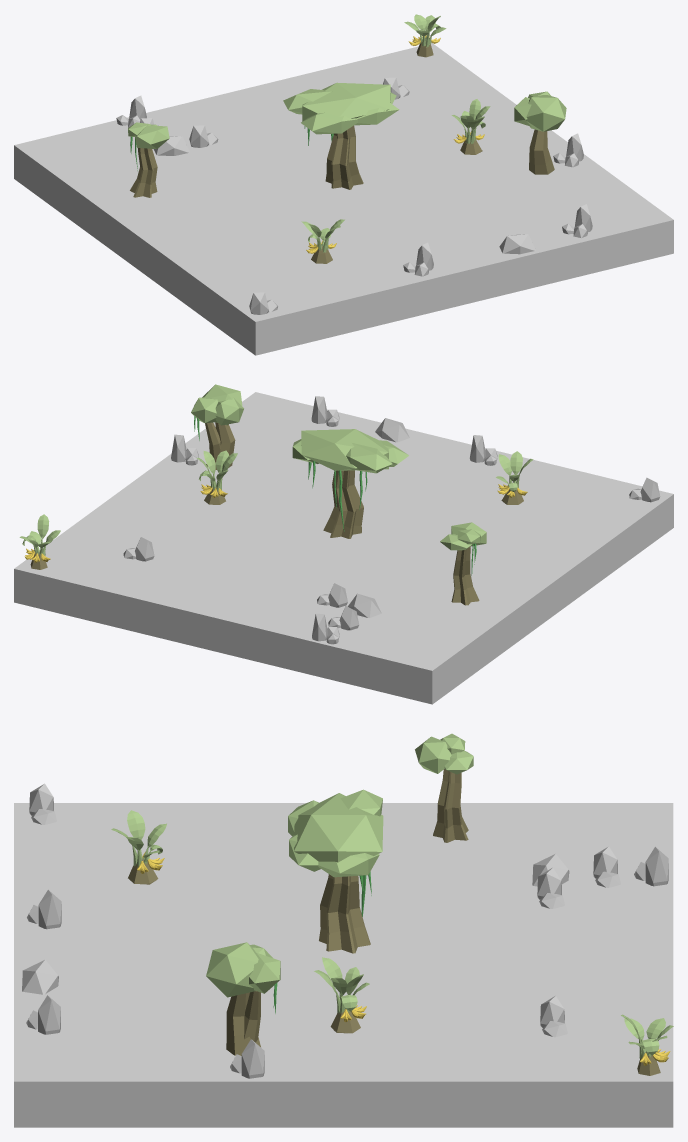
Rendered from Lowpoly jungle_EXPORT_V001.fbx.
The picture shows the model from 3 angles, top to bottom: view 1: azimuth 30°, elevation 25°; view 2: azimuth 150°, elevation 25°; view 3: azimuth 270°, elevation 25°; orthographic projection. The views are drawn at different scales.
Visible parts, largest first — view 1: Platonic_2_5, Cube_0, Cube_3, Cube_4, Cube_11, Cube_12, Cube_6, Cube_9, Cube_1, Cube_2, Cube_7, TRONC (+122 smaller); view 2: Cube_156, Platonic_2_5, TRONC, Cube_157, Cube_161, Cube_164, Cube_165, Cube_166, Cube_162, Cube_167, Cube_163, Cube_158 (+129 smaller); view 3: Platonic_2_5, Cube_25, Cube_38, Cube_77, Cube_116, Cube_129, Cube_12, Cube_51, Cube_90, Cube_103, Cube_142, Cube_155 (+155 smaller).
Boxes of the visible parts, left/top/right/bottom form: Platonic_2_5: left=302, top=82, right=390, bottom=121; Cube_0: left=237, top=305, right=287, bottom=355; Cube_3: left=334, top=277, right=384, bottom=331; Cube_4: left=366, top=269, right=416, bottom=324; Cube_11: left=592, top=214, right=641, bottom=268; Cube_12: left=623, top=206, right=673, bottom=261; Cube_6: left=433, top=253, right=480, bottom=308; Cube_9: left=530, top=230, right=577, bottom=284; Cube_1: left=272, top=292, right=319, bottom=347; Cube_2: left=302, top=285, right=351, bottom=339; Cube_7: left=462, top=245, right=512, bottom=300; TRONC: left=325, top=125, right=363, bottom=189; Cube_156: left=400, top=649, right=450, bottom=704; Platonic_2_5: left=301, top=429, right=388, bottom=470; TRONC: left=323, top=470, right=363, bottom=538; Cube_157: left=368, top=641, right=418, bottom=696; Cube_161: left=239, top=610, right=289, bottom=664; Cube_164: left=142, top=586, right=192, bottom=641; Cube_165: left=110, top=579, right=160, bottom=633; Cube_166: left=78, top=571, right=128, bottom=625; Cube_162: left=207, top=602, right=257, bottom=657; Cube_167: left=46, top=563, right=96, bottom=617; Cube_163: left=175, top=594, right=224, bottom=649; Cube_158: left=336, top=634, right=386, bottom=688; Platonic_2_5: left=294, top=793, right=383, bottom=862; Cube_25: left=64, top=1060, right=115, bottom=1127; Cube_38: left=115, top=1060, right=166, bottom=1127; Cube_77: left=267, top=1060, right=318, bottom=1127; Cube_116: left=419, top=1060, right=470, bottom=1127; Cube_129: left=470, top=1060, right=521, bottom=1127; Cube_12: left=14, top=1060, right=64, bottom=1127; Cube_51: left=166, top=1060, right=216, bottom=1127; Cube_90: left=318, top=1060, right=368, bottom=1127; Cube_103: left=369, top=1060, right=419, bottom=1127; Cube_142: left=521, top=1060, right=571, bottom=1127; Cube_155: left=572, top=1060, right=622, bottom=1127.
Size of the model in its own units: 2600 by 756 by 2602.
